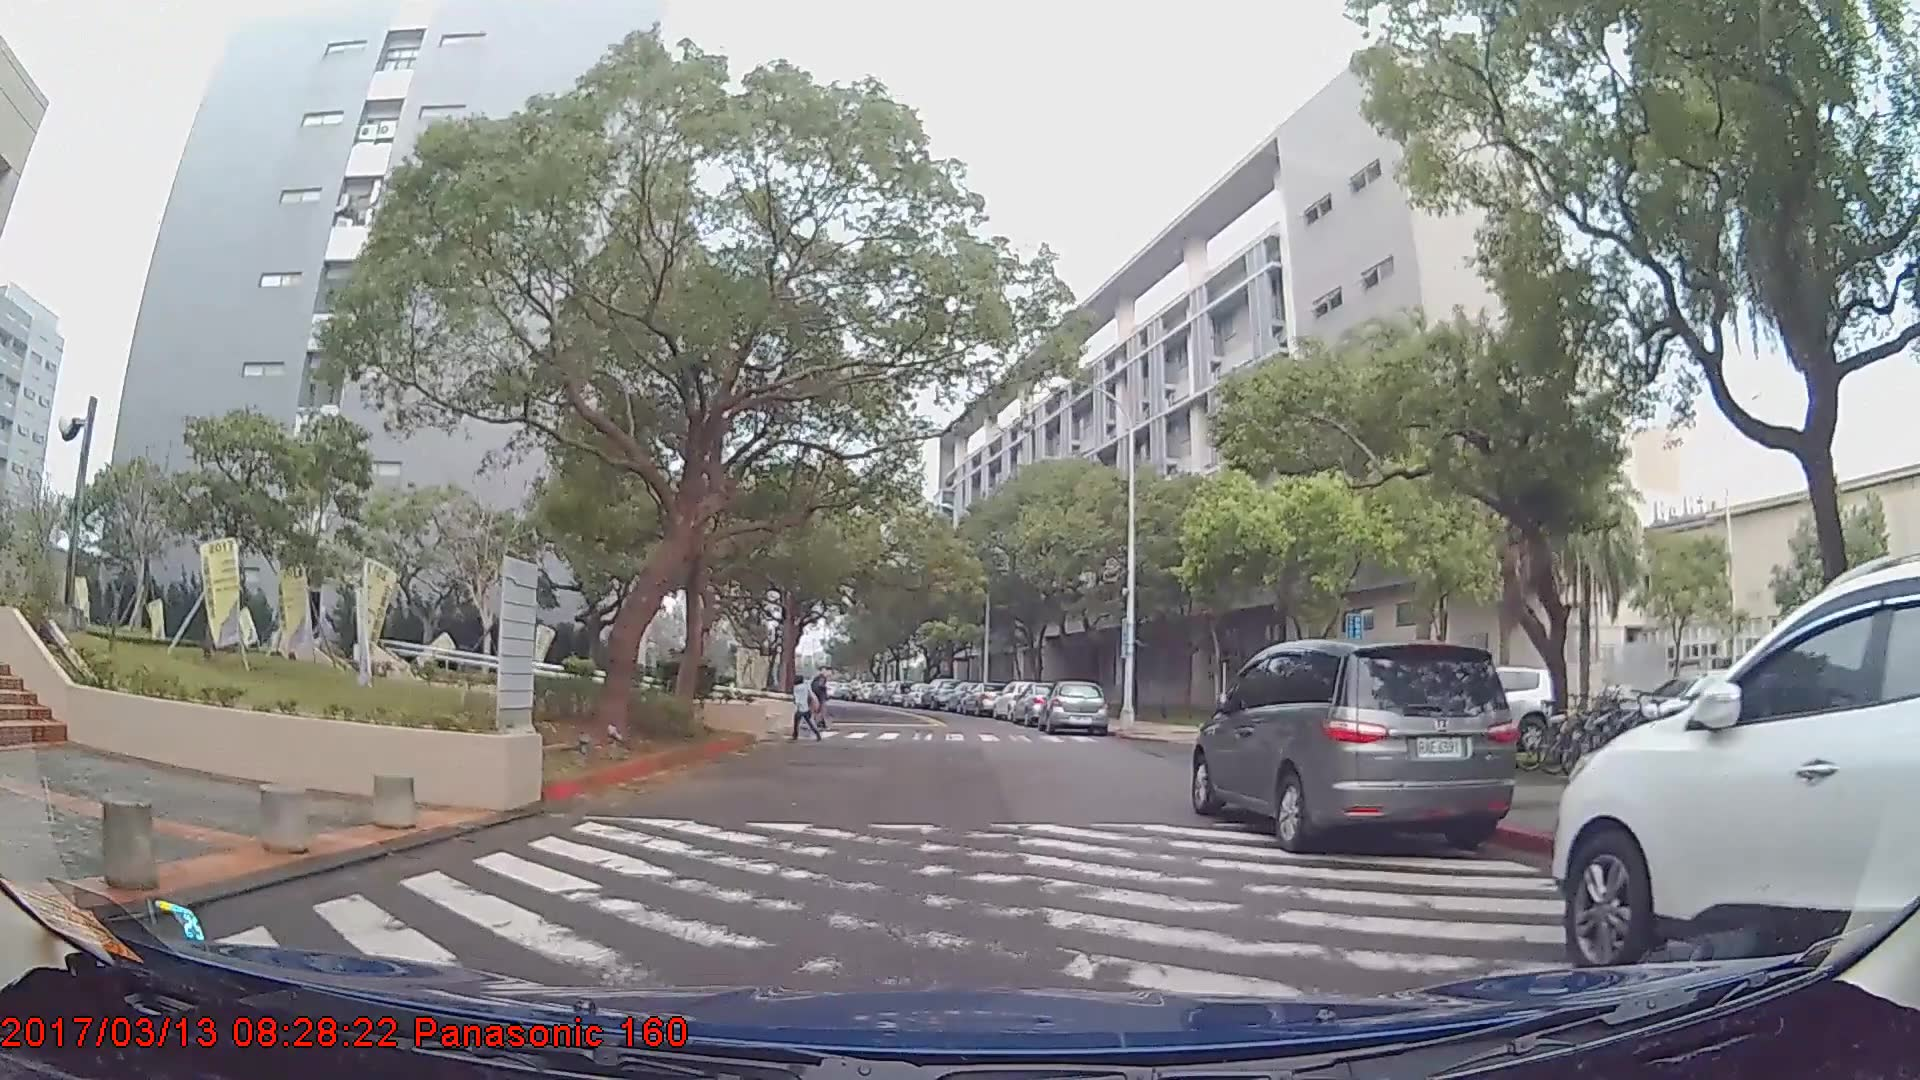pedestrian: (792, 675, 821, 743), (811, 662, 836, 731)
vehicle: (1551, 556, 1920, 979), (1193, 637, 1520, 856), (1044, 679, 1109, 735), (921, 676, 961, 709), (964, 682, 1005, 714)
